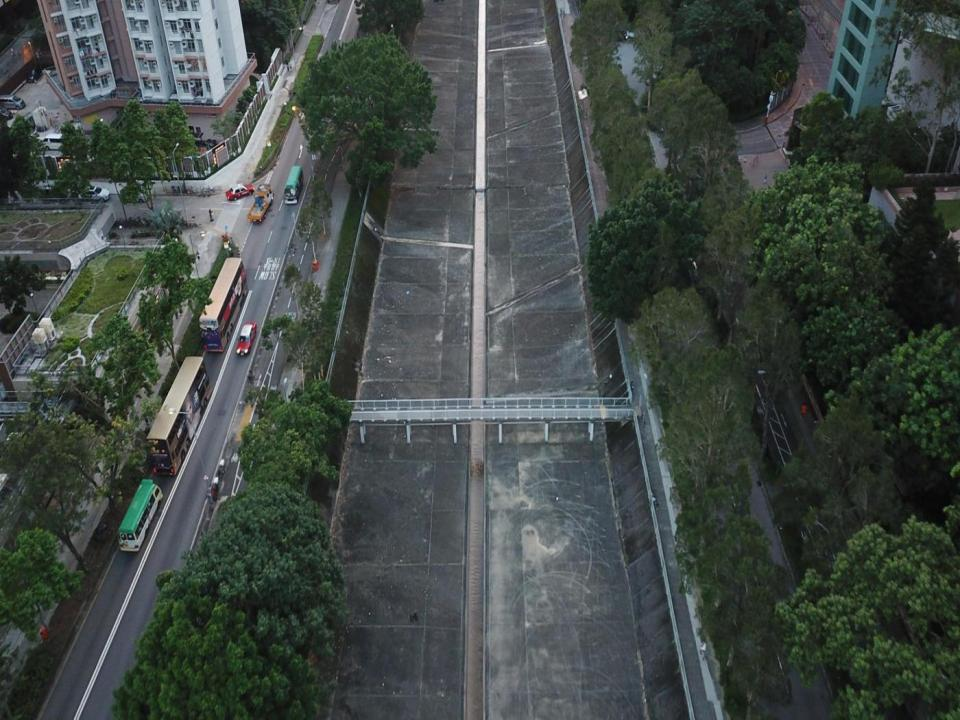bus: (146, 356, 212, 475), (199, 256, 247, 354), (118, 479, 163, 553), (284, 166, 304, 204)
car: (235, 322, 257, 356), (75, 186, 110, 203), (226, 182, 254, 201), (120, 186, 148, 203), (26, 66, 42, 83), (1, 109, 13, 120)
truck: (247, 184, 273, 223)
van: (42, 133, 75, 150), (0, 94, 25, 111)
